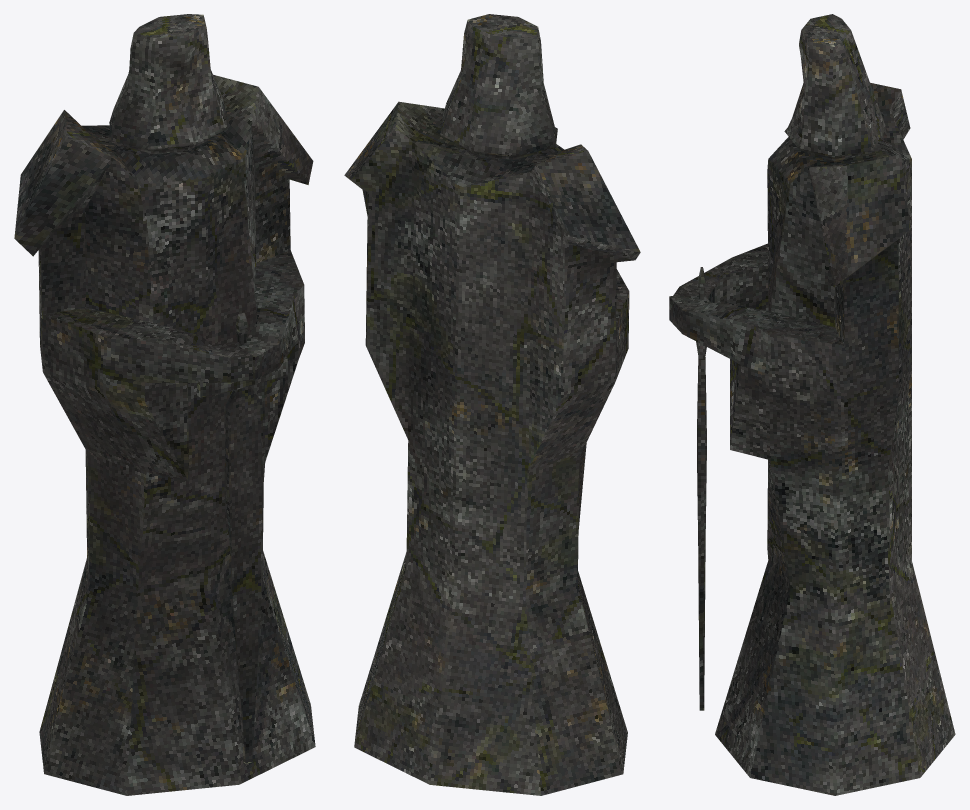
Rendered from Guardian_2.gltf.
3 renders of one model, left to right at view 1: azimuth 30°, elevation 25°; view 2: azimuth 150°, elevation 25°; view 3: azimuth 270°, elevation 25°, orthographic. The views are drawn at different scales.
Parts seen in each view (by area): view 1: Guardian_2; view 2: Guardian_2; view 3: Guardian_2.
Boxes of the visible parts, x1,y1,x2,y2 form: Guardian_2: [14, 14, 315, 795]; Guardian_2: [344, 14, 640, 795]; Guardian_2: [669, 14, 955, 795].
Bounding box in the file's own units: 3.28 × 7.56 × 2.79.
Materials: 1 (1 with a texture image).
